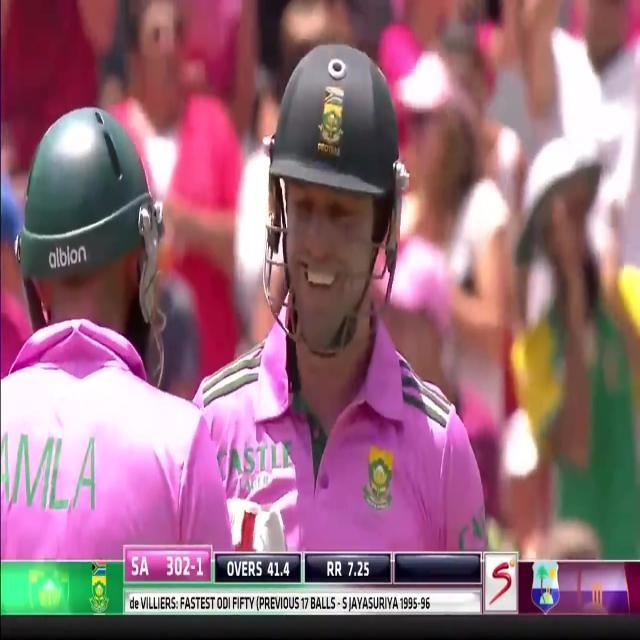Ball: (166, 41, 487, 551), (0, 107, 231, 560)
